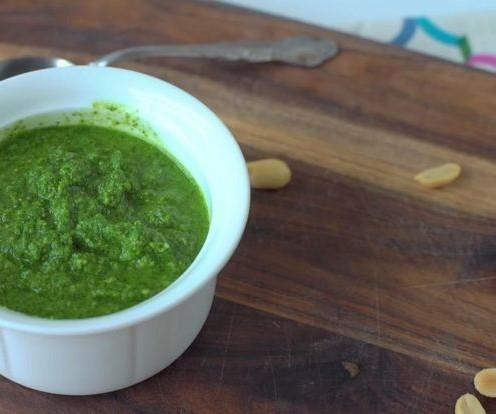GreenChutney: (0, 125, 208, 319)
